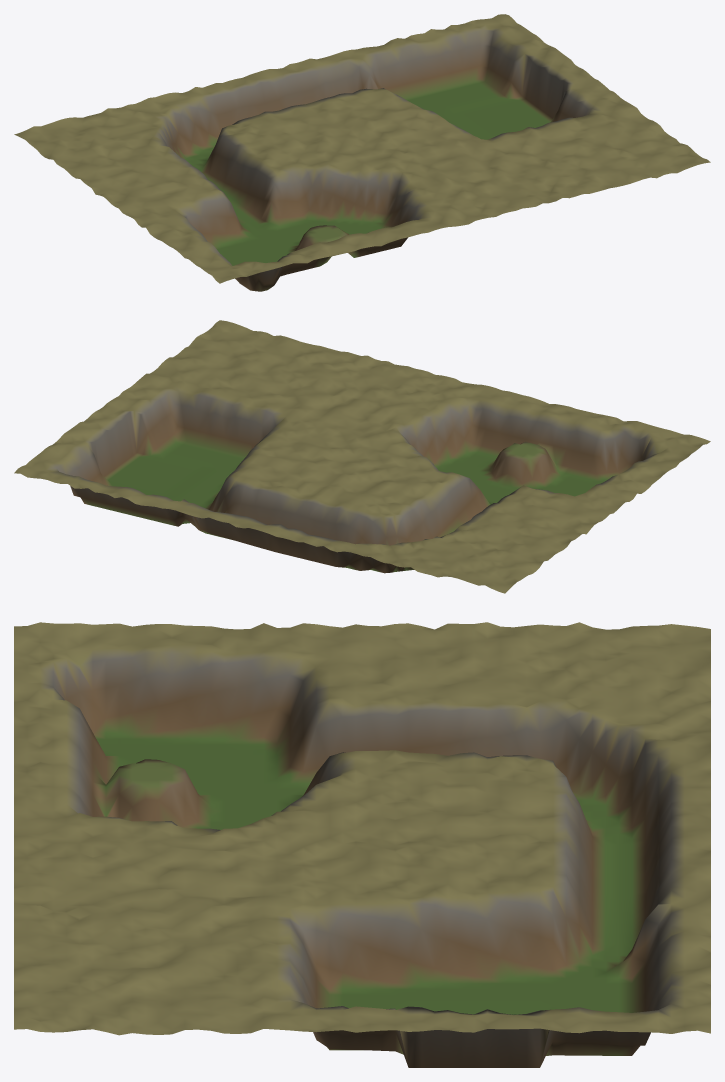
File: canyon_terrain_dense.obj
3 renders of one model, top to bottom at view 1: azimuth 30°, elevation 25°; view 2: azimuth 150°, elevation 25°; view 3: azimuth 270°, elevation 25°, orthographic. The views are drawn at different scales.
Bounding box in the file's own units: 165 × 12.93 × 120.
